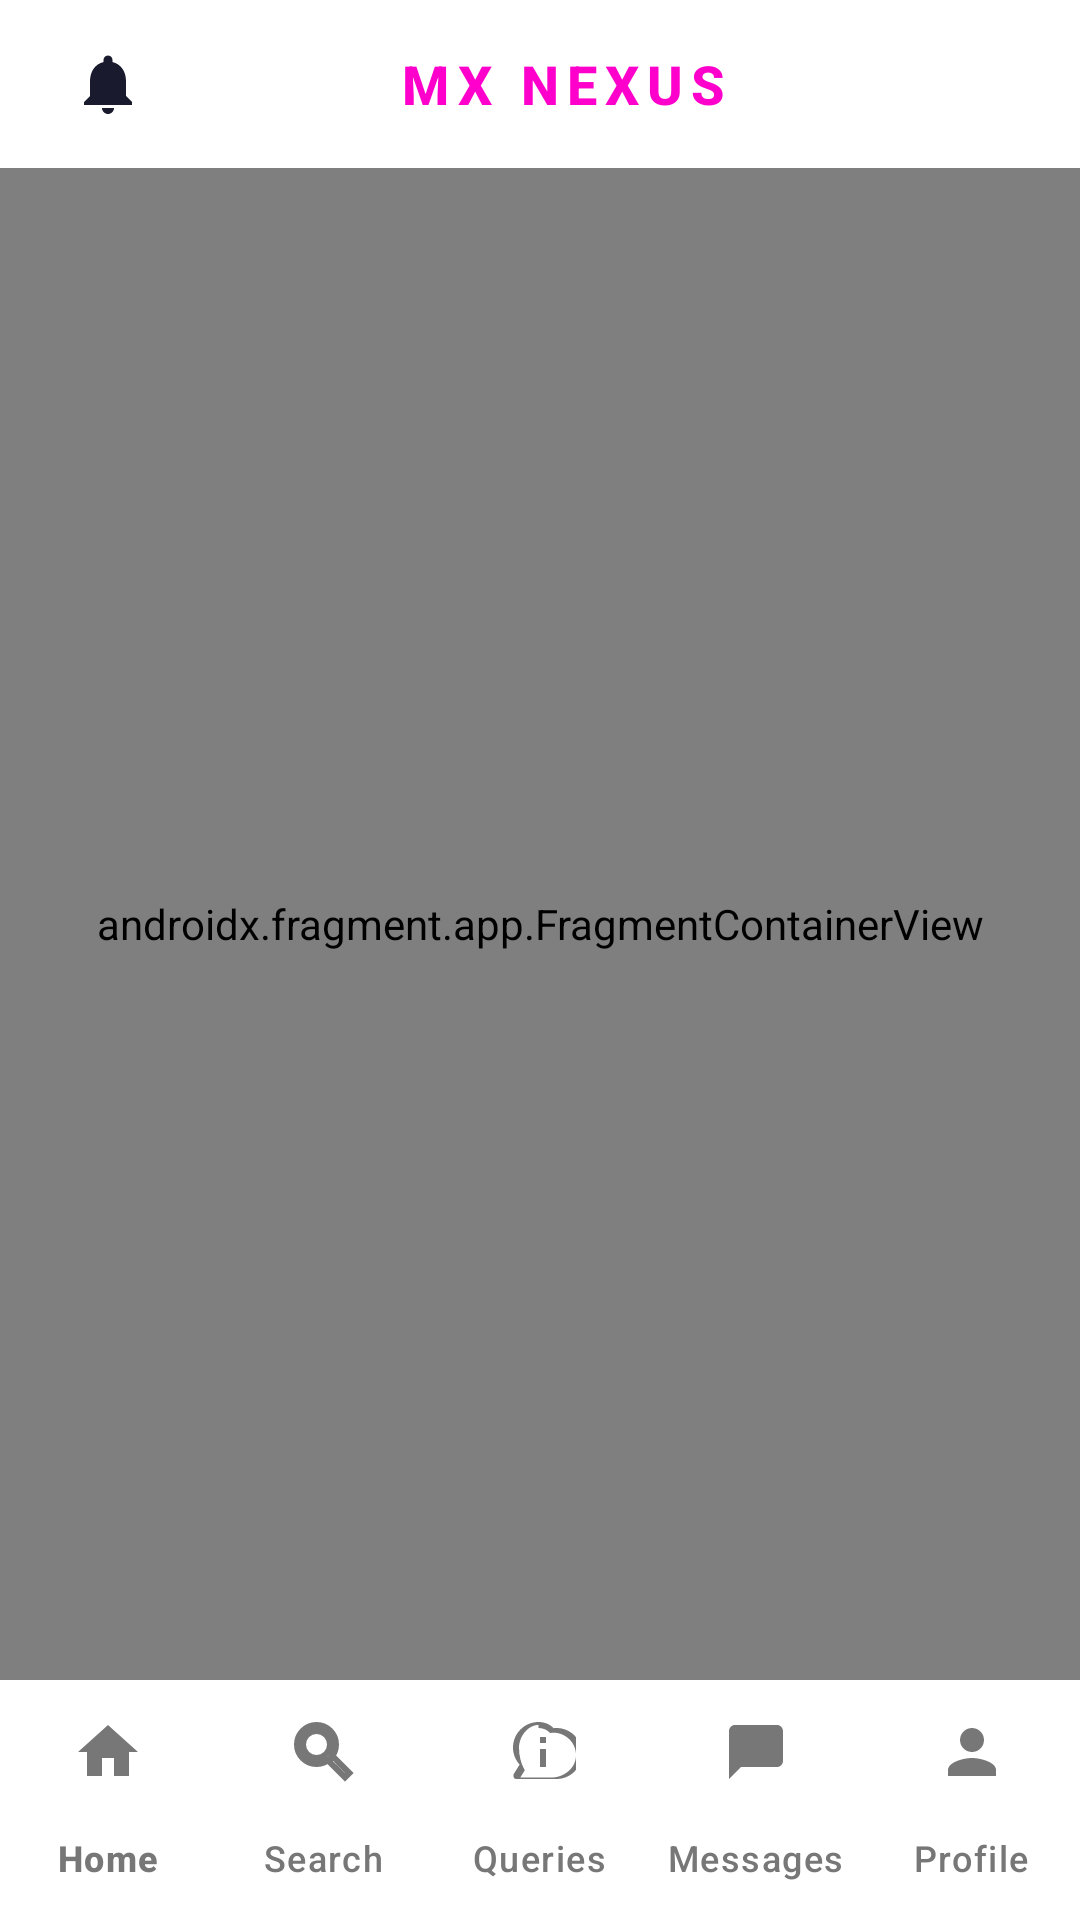

Locate icon controls on the screen. Image size 1080px x 1920px, boxes as (x1, y1, x2, y2).
notification: (84, 55, 132, 114)
